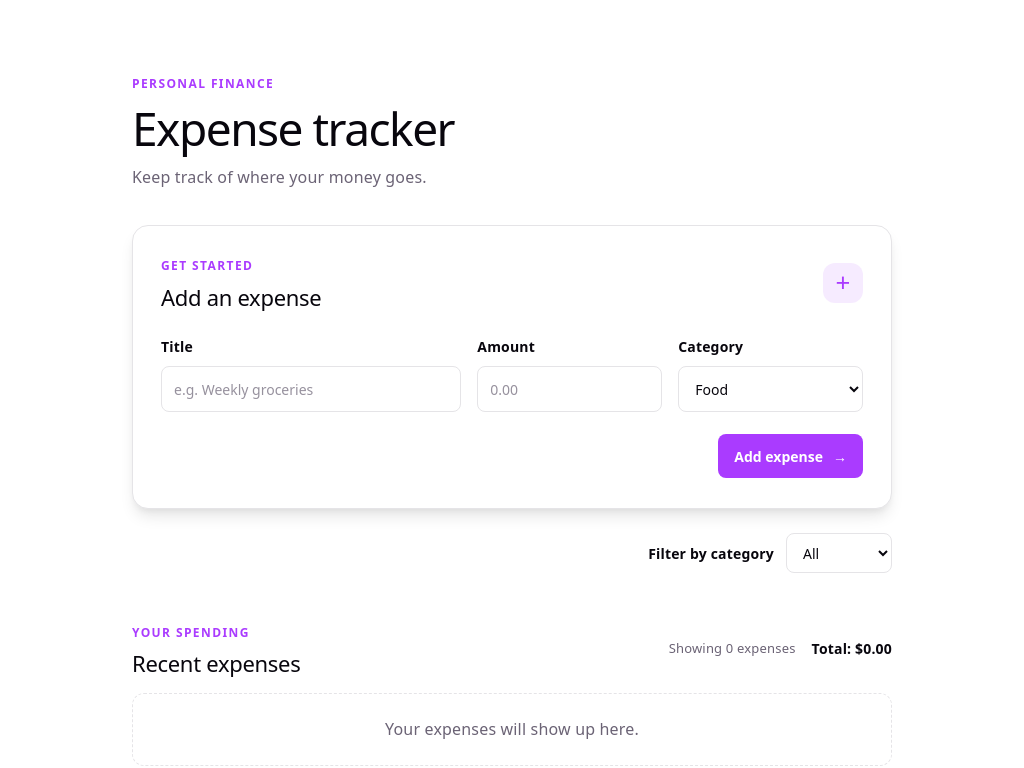
Expense tracker › shows validation errors for an empty title and a nonpositive amount
Type "10" into the number field with test id "expense-amount-input" at (570, 389), box [477,366,662,412]
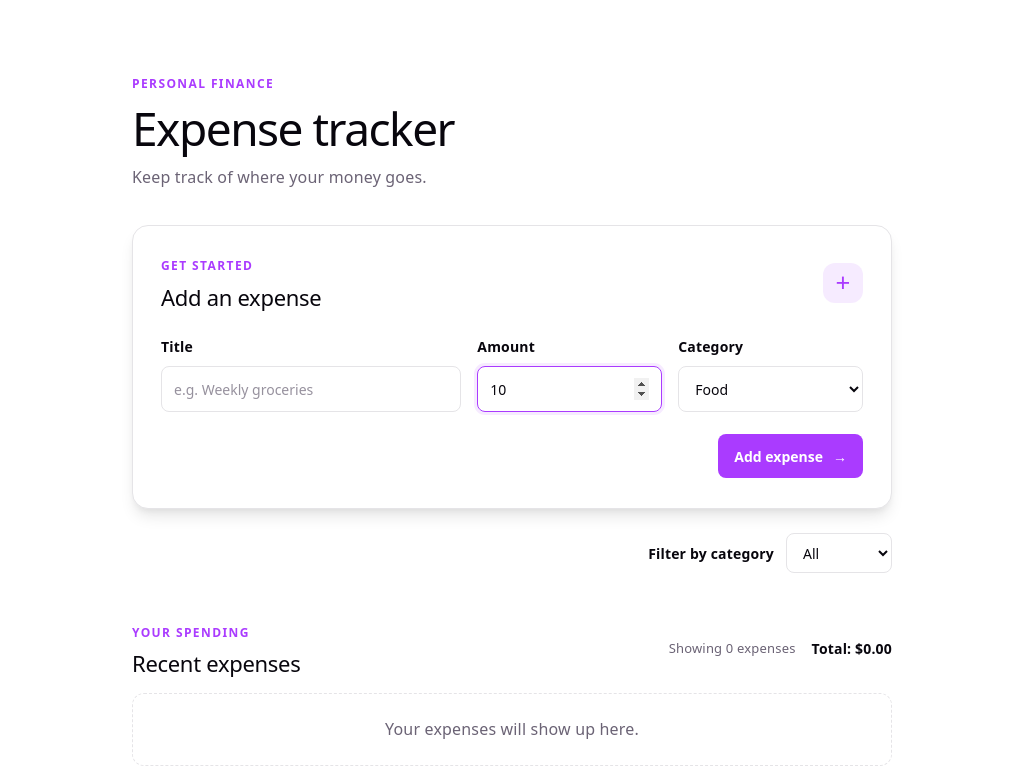
Click the button with test id "add-expense-button" at (791, 456), box [718,434,863,478]
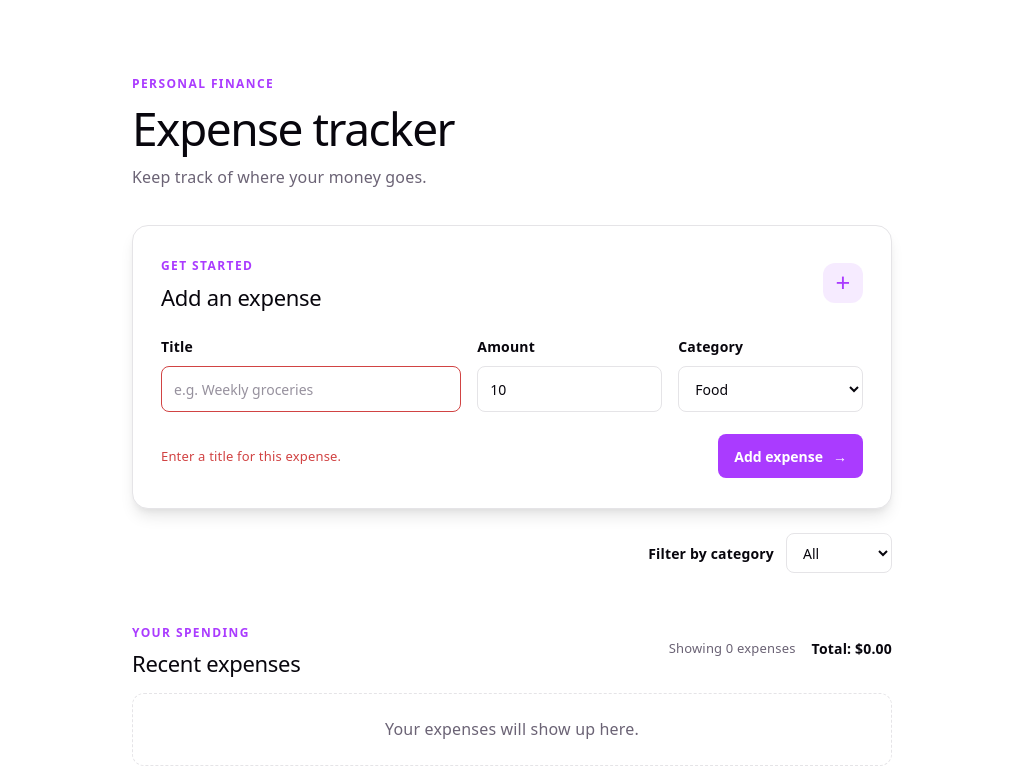
Check: the text with test id "expense-count" reads "Showing 0 expenses", box [669,637,796,660]
Check: the message "Enter a title for this expense." is shown, box [161,445,341,468]
Check: the message with test id "expense-form-error" reads "Enter a title for this expense.", box [161,447,341,465]
Type "Invalid expense" into the field with test id "expense-title-input" at (311, 389), box [161,366,461,412]
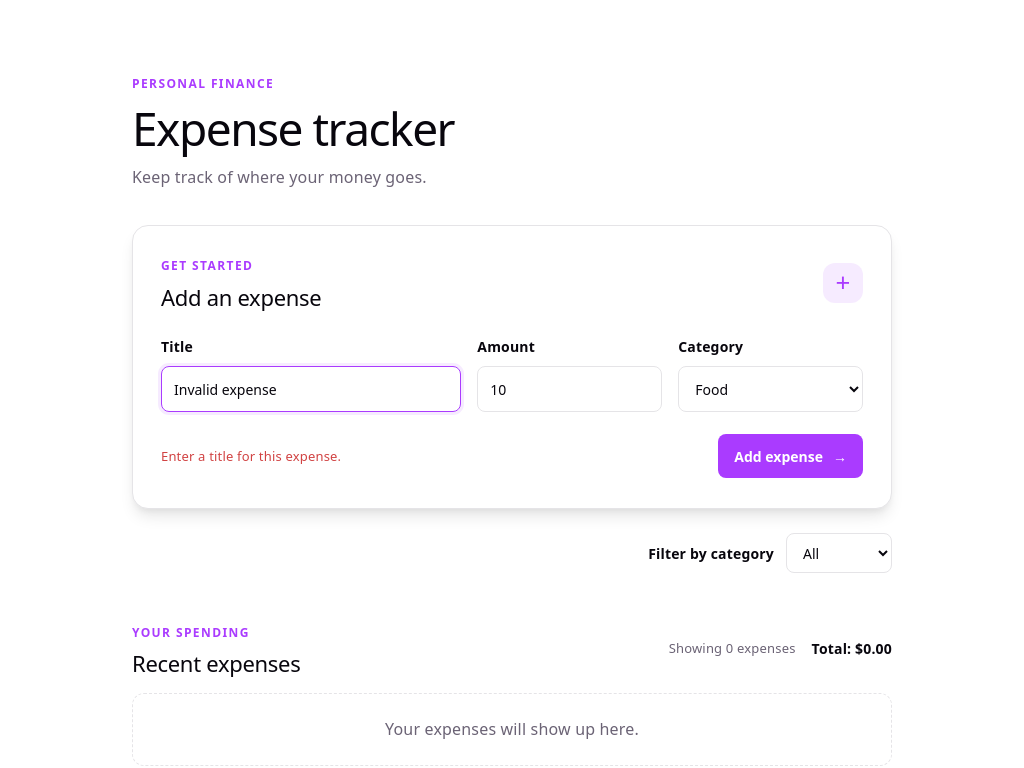
Replace the text in the number field with test id "expense-amount-input" with "0" at (570, 389), box [477,366,662,412]
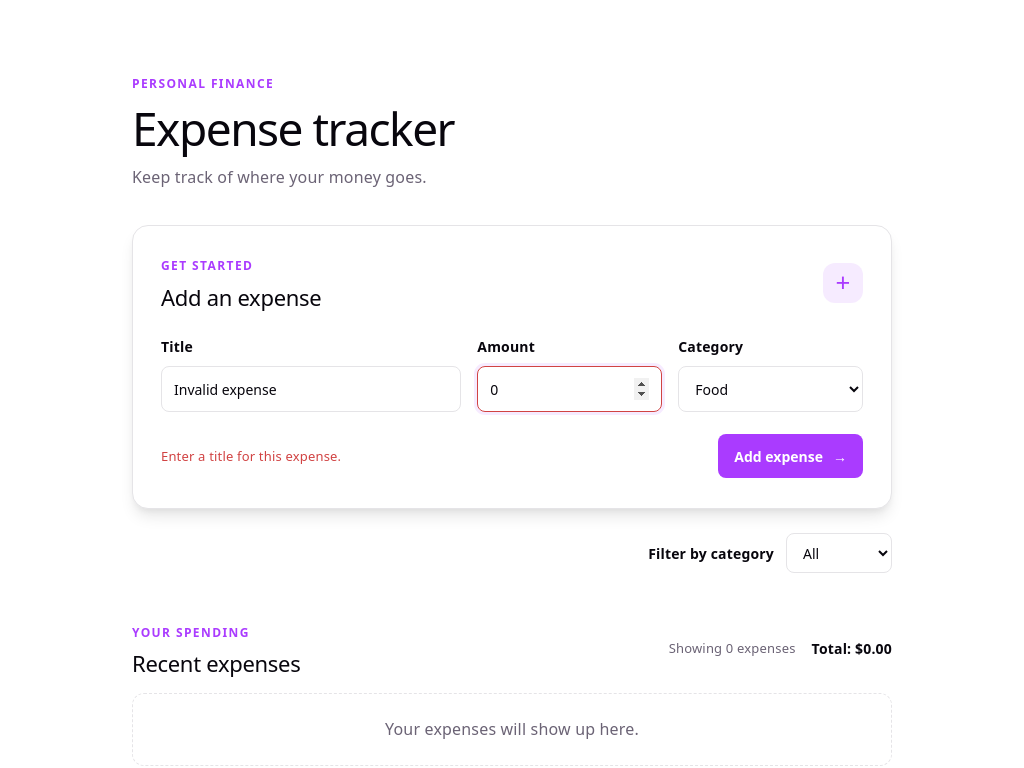
Click the button with test id "add-expense-button" at (791, 456), box [718,434,863,478]
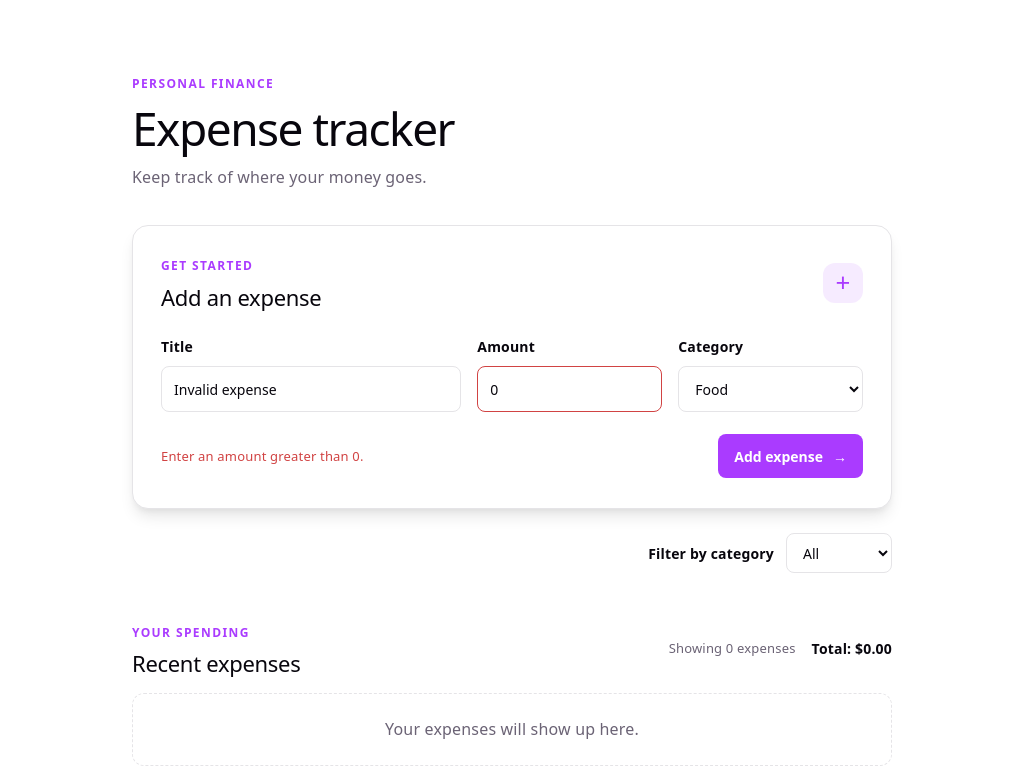
Check: the text with test id "expense-count" reads "Showing 0 expenses", box [669,637,796,660]
Check: the message "Enter an amount greater than 0." is shown, box [161,445,364,468]
Check: the message with test id "expense-form-error" reads "Enter an amount greater than 0.", box [161,447,364,465]
